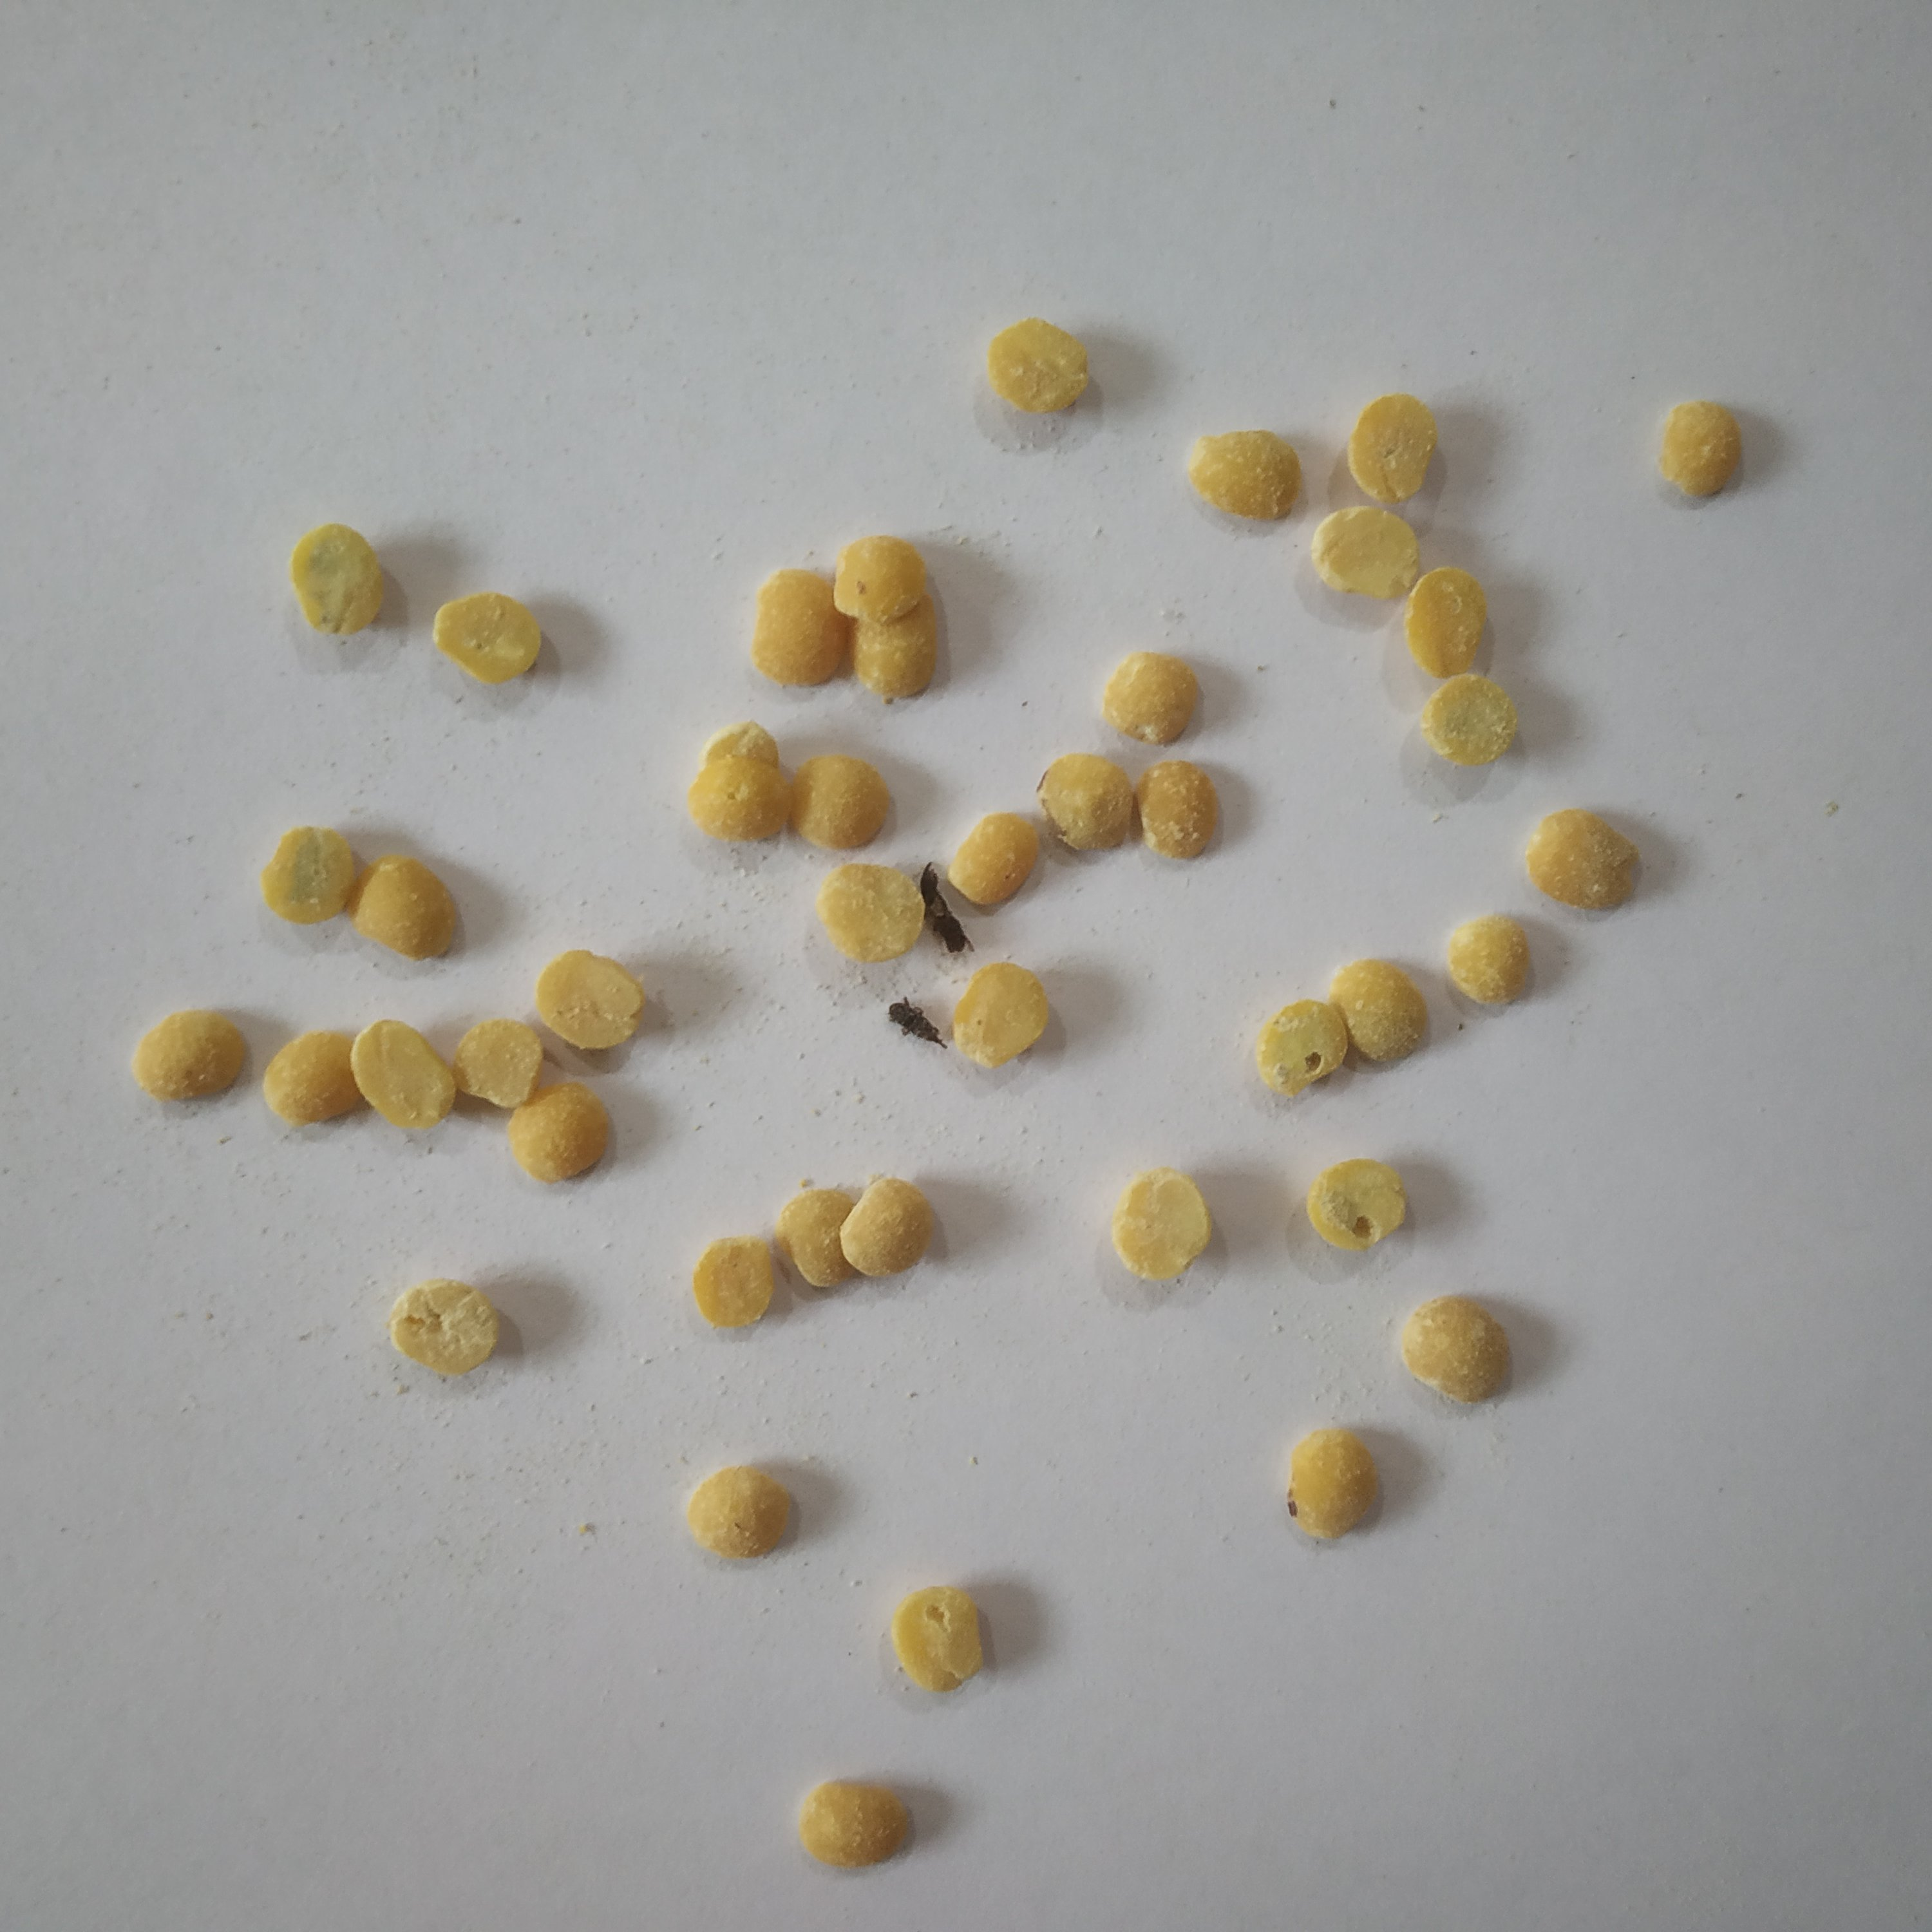Good Toor Dal: (1398, 1286, 1520, 1408), (343, 847, 462, 966), (345, 1014, 460, 1131), (1108, 1164, 1219, 1284), (531, 945, 648, 1056), (1523, 805, 1644, 913), (748, 566, 849, 692), (814, 858, 931, 966), (287, 517, 387, 640), (793, 1771, 915, 1872), (1184, 426, 1307, 525), (984, 311, 1097, 419), (504, 1081, 614, 1191), (1325, 954, 1430, 1069), (1281, 1426, 1382, 1545), (426, 587, 547, 686), (849, 589, 947, 709), (686, 1465, 800, 1568), (1309, 502, 1422, 605), (950, 957, 1051, 1070), (129, 1007, 246, 1104), (1341, 389, 1438, 506), (258, 1026, 364, 1132), (258, 823, 363, 931), (786, 750, 893, 853), (835, 1175, 938, 1281), (1398, 561, 1488, 681), (1099, 646, 1201, 748), (1035, 754, 1138, 855), (1415, 671, 1522, 768), (1132, 755, 1224, 867), (683, 754, 793, 844), (945, 807, 1046, 904), (1656, 398, 1744, 504), (828, 531, 929, 621), (688, 1233, 782, 1329), (448, 1014, 543, 1108), (1444, 911, 1536, 1008), (775, 1187, 858, 1293), (694, 715, 782, 775)
Infested Toor Dal: (1300, 1152, 1414, 1260), (384, 1276, 502, 1378), (888, 1580, 987, 1700), (1253, 996, 1357, 1100)
Live Infestation: (916, 856, 978, 961), (885, 993, 954, 1054)
